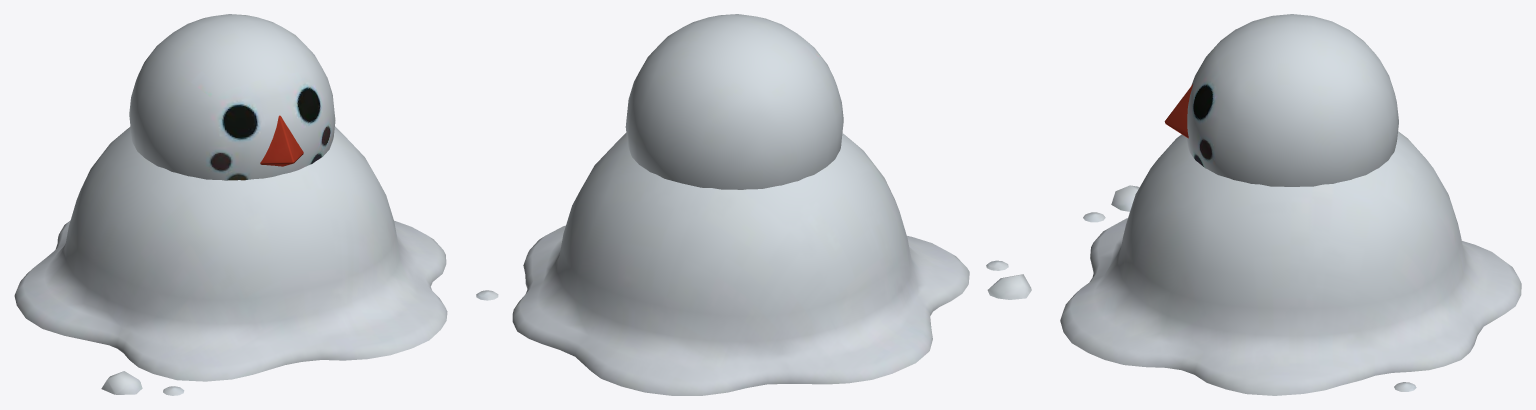
Rendered from snowboy-2.glb.
The picture shows the model from 3 angles, left to right: view 1: azimuth 30°, elevation 25°; view 2: azimuth 150°, elevation 25°; view 3: azimuth 270°, elevation 25°; orthographic projection. The views are drawn at different scales.
Bounding box in the file's own units: 13.78 × 8.67 × 13.26.
Materials: 2 (2 with a texture image).
